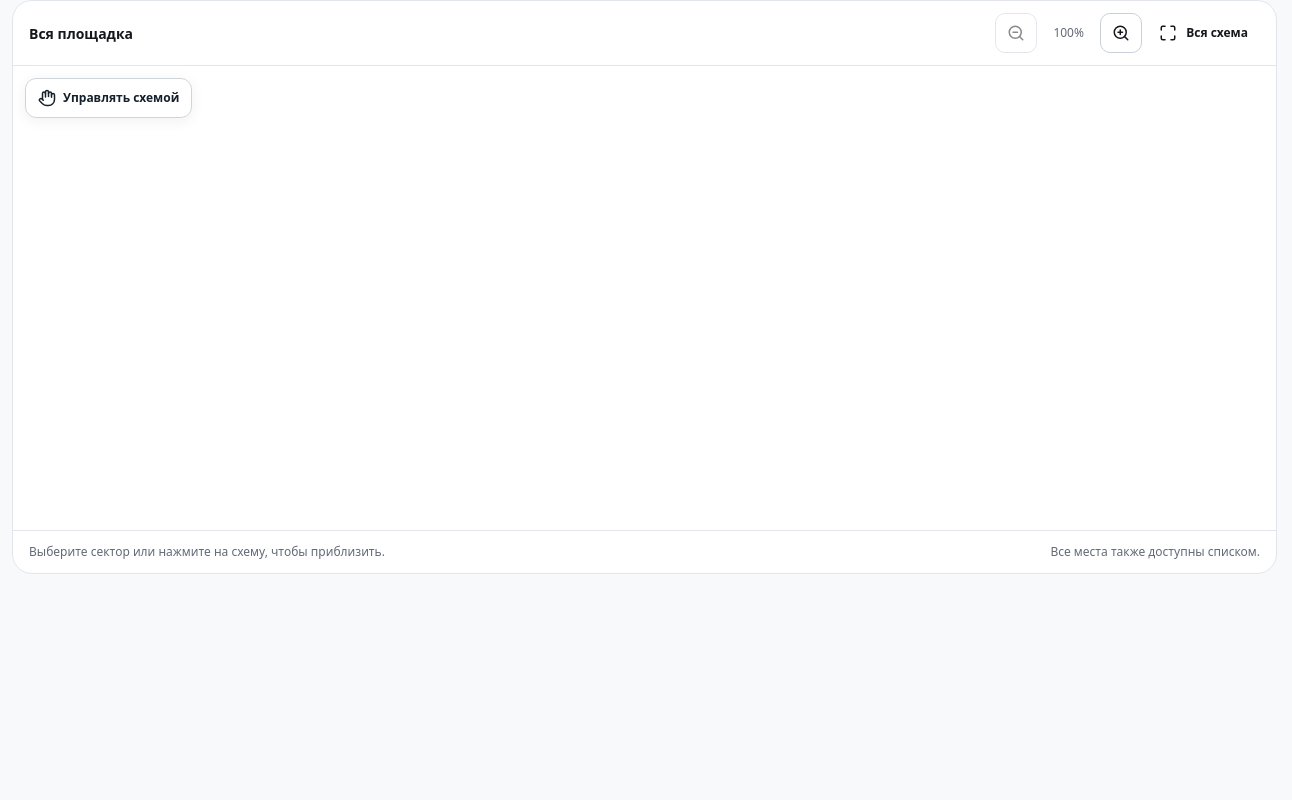
it: camera lifecycle regression › plus/minus change the background transform after StrictMode replay
Click the button named "Приблизить" at (1121, 33), box [1100, 13, 1142, 53]
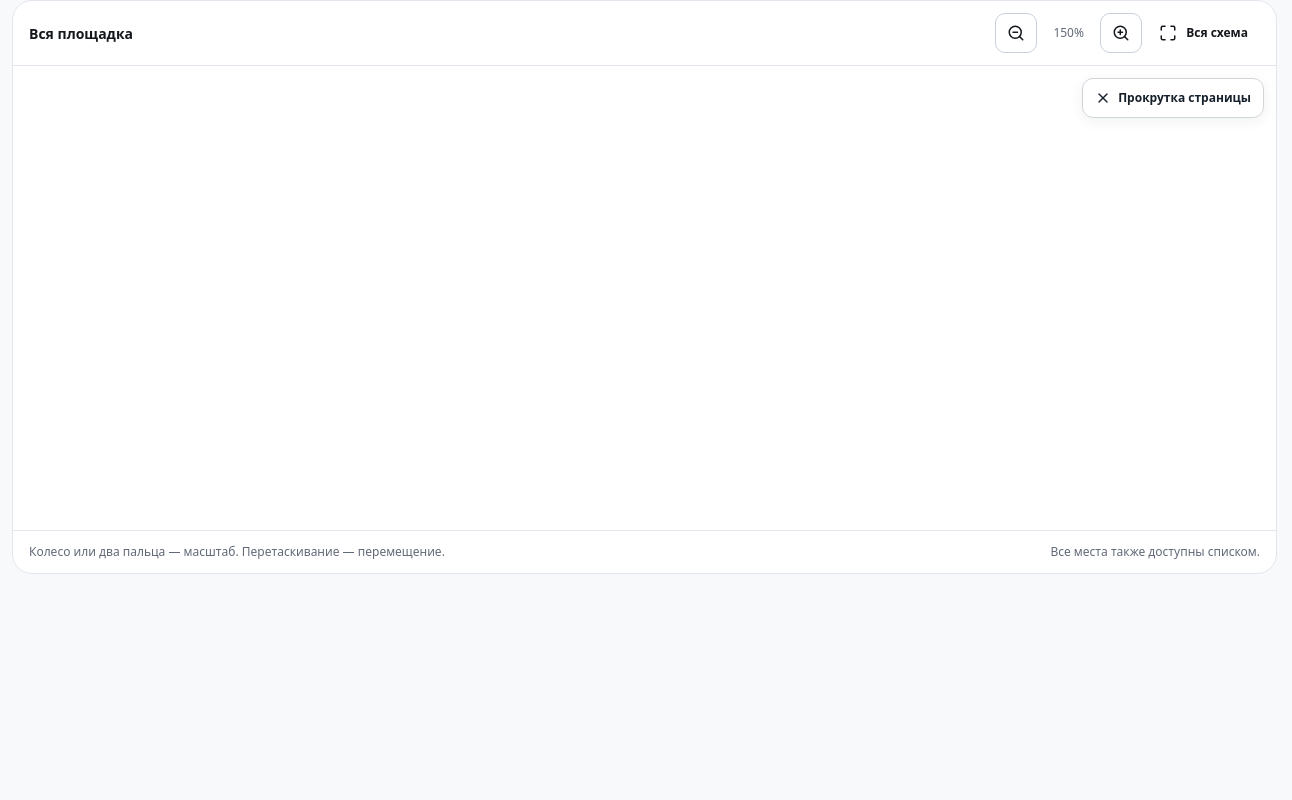
Result: the text named "Масштаб схемы" reads "150%" at [1053, 24, 1084, 41]
Click the button named "Отдалить" at (1016, 33), box [995, 13, 1037, 53]
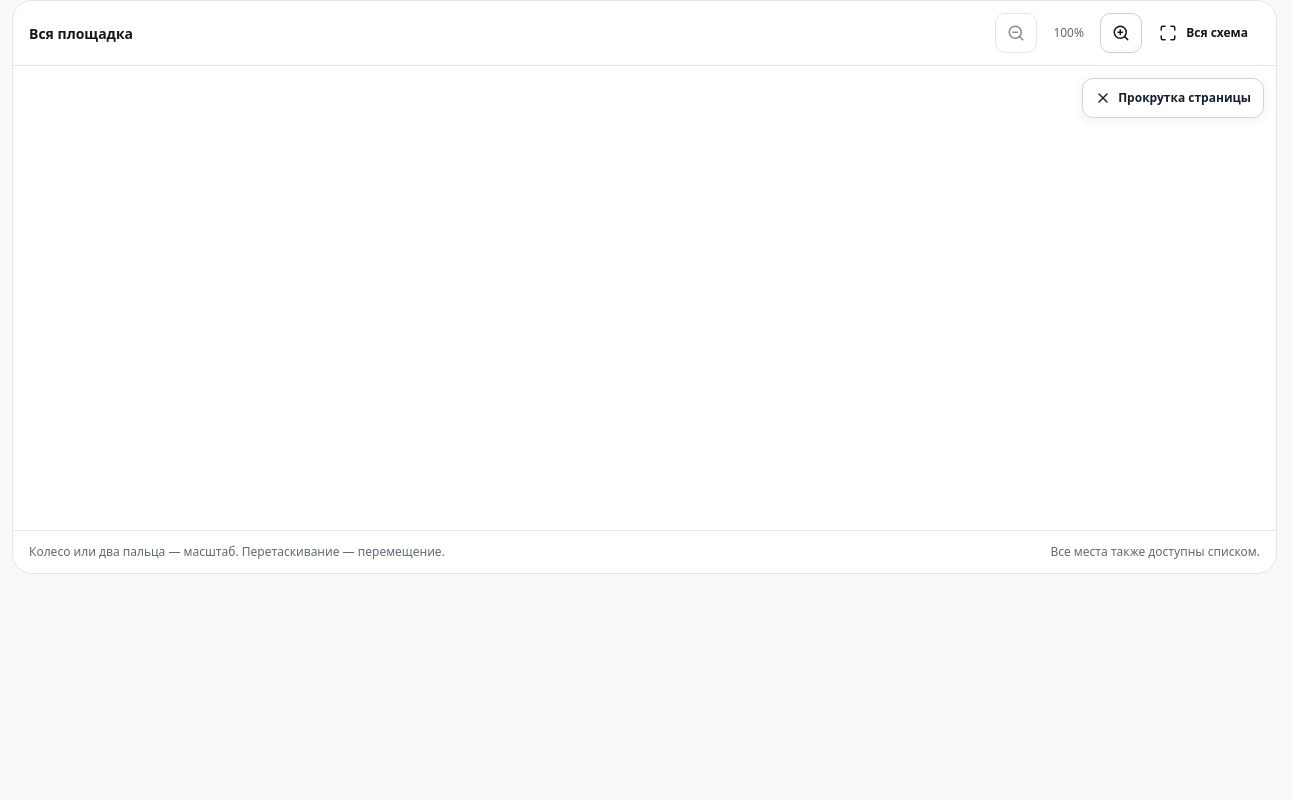
Result: the text named "Масштаб схемы" reads "100%" at [1053, 24, 1084, 41]
